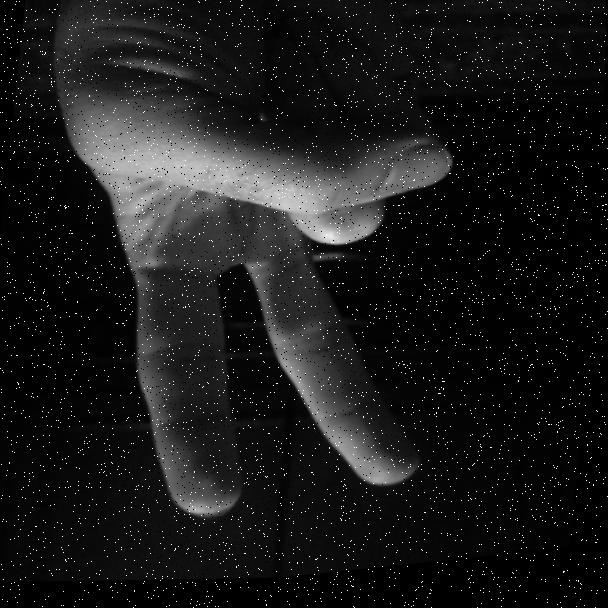two: (48, 0, 481, 562)
